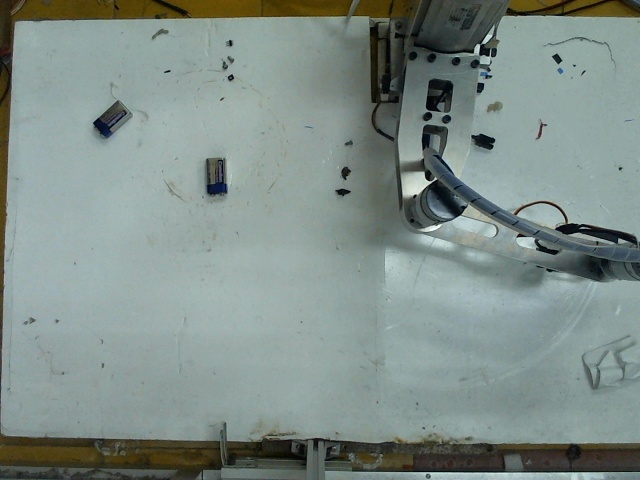battery: (196, 151, 237, 200), (92, 100, 132, 136)
